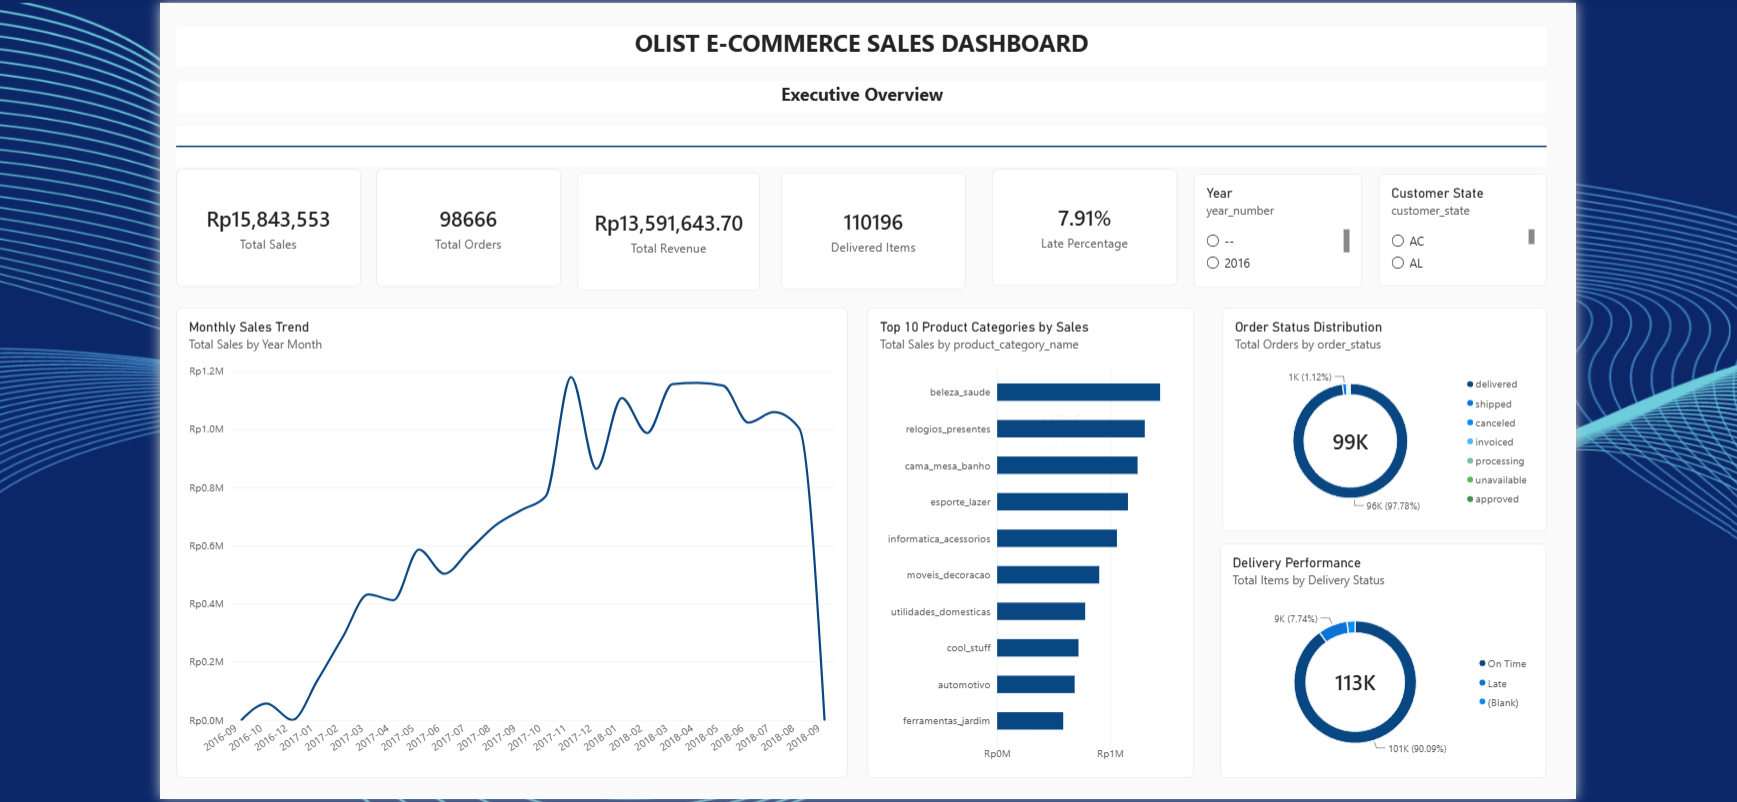

Layout of this report page (visuals, bound fields, positions):
{"tool":"powerbi","page":{"name":"Executive Overview","canvas":[1920,1080],"ordinal":0},"visuals":[{"type":"card","fields":{"Values":["olist_dw fact_sales.Total Sales"]},"box":[22.5,225,250,160],"z":0},{"type":"card","fields":{"Values":["olist_dw fact_sales.Total Orders"]},"box":[294,226,250,160],"z":1000},{"type":"card","fields":{"Values":["olist_dw fact_sales.Total Revenue"]},"box":[566,230,247.5,160],"z":2000},{"type":"card","fields":{"Values":["olist_dw fact_sales.Delivered Items"]},"box":[842,230,250,158],"z":3000},{"type":"card","fields":{"Values":["olist_dw fact_sales.Late Items"]},"box":[1100,502,250,157.5],"z":4000},{"type":"card","fields":{"Values":["olist_dw fact_sales.Late Percentage"]},"box":[1128,226,250,158],"z":5000},{"type":"lineChart","title":"Monthly Sales Trend","fields":{"Category":["olist_dw dim_date.Year Month"],"Y":["olist_dw fact_sales.Total Sales"]},"box":[22,414,910,638],"z":6000},{"type":"clusteredBarChart","title":"Top 10 Product Categories by Sales","fields":{"Category":["olist_dw dim_product.product_category_name"],"Y":["olist_dw fact_sales.Total Sales"]},"box":[960,414,442,638],"z":7000},{"type":"donutChart","title":"Order Status Distribution","fields":{"Category":["olist_dw fact_sales.order_status"],"Y":["olist_dw fact_sales.Total Orders"]},"box":[1440,414,440,304],"z":8000},{"type":"donutChart","title":"Delivery Performance","fields":{"Category":["olist_dw fact_sales.Delivery Status"],"Y":["olist_dw fact_sales.Total Items"]},"box":[1438,734,442,318],"z":9000},{"type":"listSlicer","title":"Year","fields":{"Values":["olist_dw dim_date.year_number"]},"box":[1402,232,228,154],"z":10000},{"type":"listSlicer","title":"Customer State","fields":{"Values":["olist_dw dim_customer.customer_state"]},"box":[1652,232,228,152],"z":11000},{"type":"textbox","box":[22,32,1858,54],"z":12000},{"type":"textbox","box":[24,106,1856,42],"z":13000},{"type":"shape","box":[22,168,1858,54],"z":14000}]}

Visuals, with their boxes on the page's 1920x1080 design canvas (x1, y1, x2, y2). These are canvas units, not pixel positions in the 1737x802 screenshot, which may show the page scaled, cropped or inside an application window:
card - olist_dw fact_sales.Total Sales: BBox(22, 225, 272, 385)
card - olist_dw fact_sales.Total Orders: BBox(294, 226, 544, 386)
card - olist_dw fact_sales.Total Revenue: BBox(566, 230, 814, 390)
card - olist_dw fact_sales.Delivered Items: BBox(842, 230, 1092, 388)
card - olist_dw fact_sales.Late Items: BBox(1100, 502, 1350, 660)
card - olist_dw fact_sales.Late Percentage: BBox(1128, 226, 1378, 384)
"Monthly Sales Trend" lineChart: BBox(22, 414, 932, 1052)
"Top 10 Product Categories by Sales" clusteredBarChart: BBox(960, 414, 1402, 1052)
"Order Status Distribution" donutChart: BBox(1440, 414, 1880, 718)
"Delivery Performance" donutChart: BBox(1438, 734, 1880, 1052)
"Year" listSlicer: BBox(1402, 232, 1630, 386)
"Customer State" listSlicer: BBox(1652, 232, 1880, 384)
textbox: BBox(22, 32, 1880, 86)
textbox: BBox(24, 106, 1880, 148)
shape: BBox(22, 168, 1880, 222)
